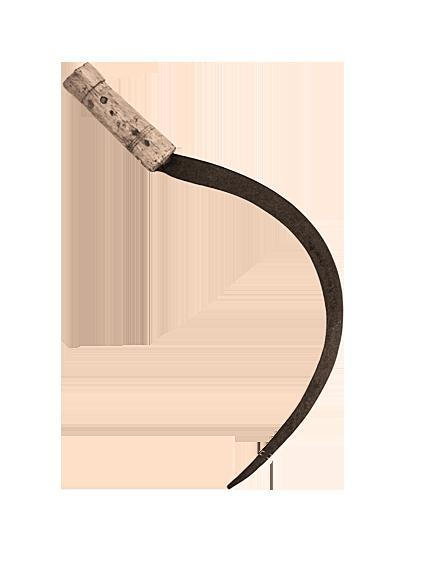foice: (64, 63, 342, 488)
